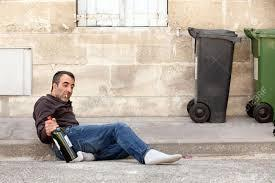Drunk: (57, 73, 75, 100)
